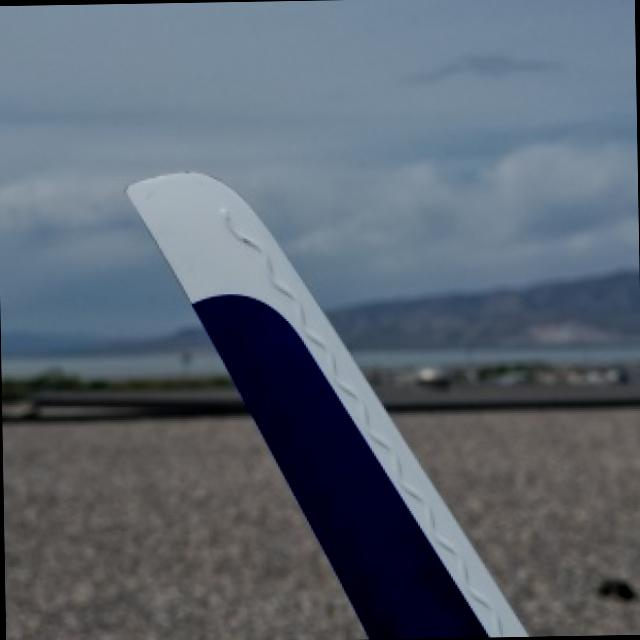healthy: (126, 173, 524, 637)
